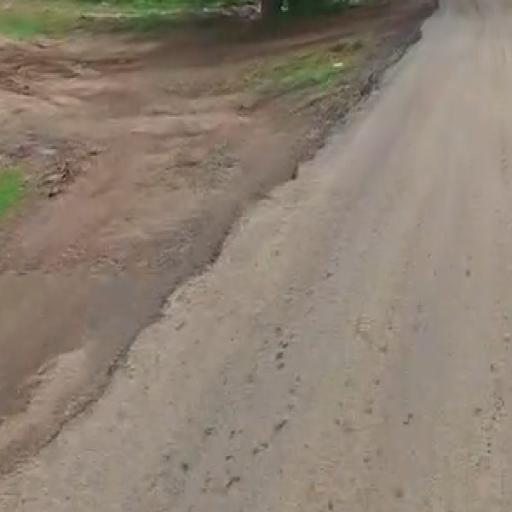edge_damage: (10, 6, 468, 486)
